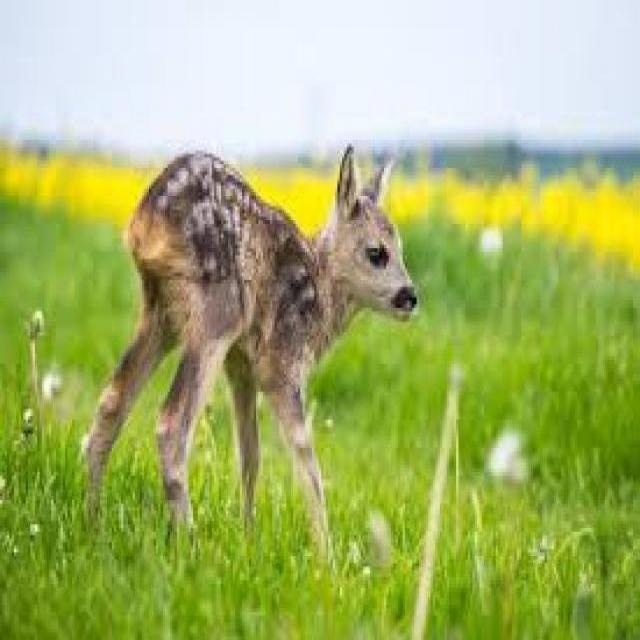deer: (48, 135, 438, 542)
